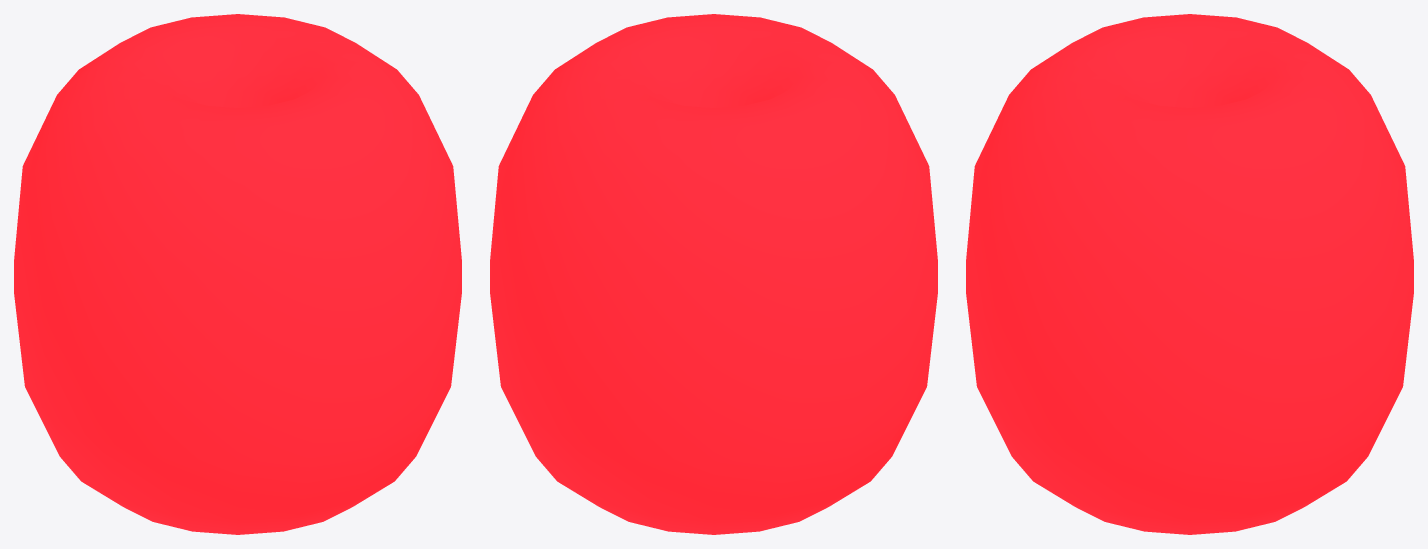
File: level3_spike_thing.glb
3 renders of one model, left to right at view 1: azimuth 30°, elevation 25°; view 2: azimuth 150°, elevation 25°; view 3: azimuth 270°, elevation 25°, orthographic.
Parts seen in each view (by area): view 1: Torus; view 2: Torus; view 3: Torus.
Part boxes in pixels (<box>): Torus: <box>14,14,461,534</box>; Torus: <box>490,14,937,534</box>; Torus: <box>966,14,1413,534</box>.
Bounding box in the file's own units: 50.2 × 49.67 × 49.44.
